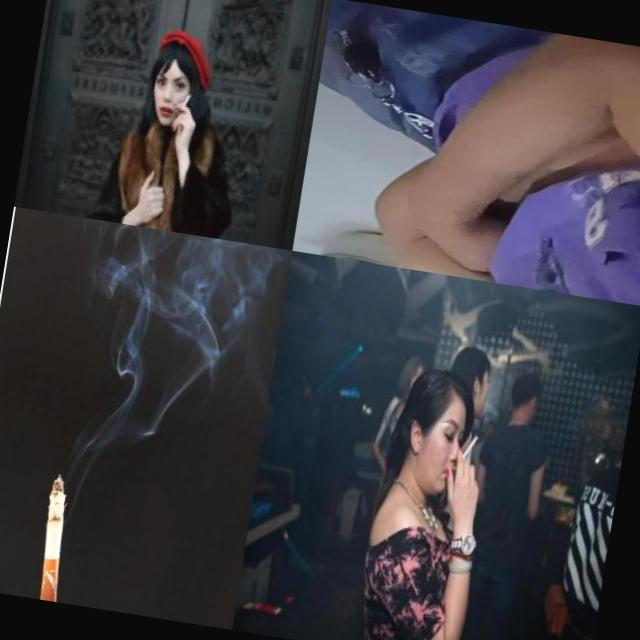cigarette: (34, 472, 76, 602), (461, 432, 480, 462), (180, 94, 192, 110)
